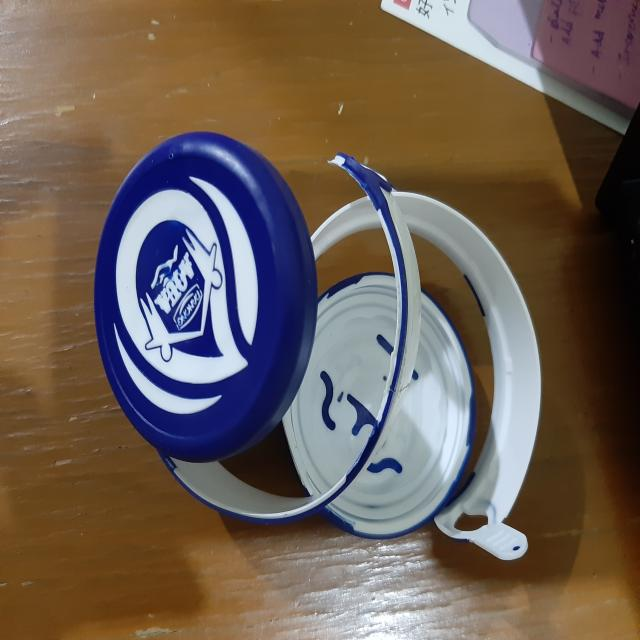Kardus: (84, 123, 550, 591)
